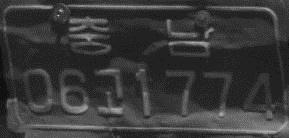0: (22, 67, 53, 114)
1: (128, 68, 160, 117)
4: (244, 74, 276, 118)
6: (57, 67, 90, 113)
7: (164, 68, 195, 117), (202, 69, 233, 117)
고: (94, 67, 124, 114)
충남_D: (68, 15, 214, 59)
